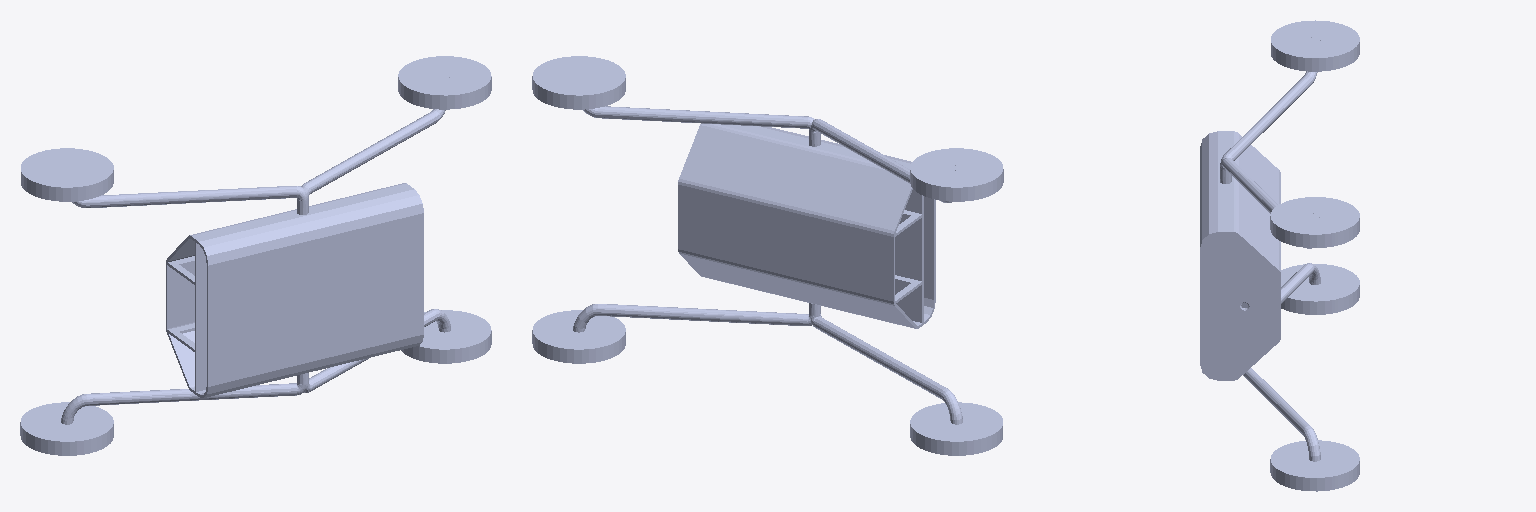
robot.urdf — test:
<?xml version="1.0" encoding="utf-8"?>
<!-- This URDF was automatically created by SolidWorks to URDF Exporter! Originally created by [author] ([email redacted]) 
     Commit Version: 1.6.0-1-g15f4949  Build Version: 1.6.7594.29634
     For more information, please see http://wiki.ros.org/sw_urdf_exporter -->
<robot
  name="test">
  <link
    name="base_link">
    <inertial>
      <origin
        xyz="0.00385110015791527 0.0280770448699607 -1.04225604390537E-05"
        rpy="0 0 0" />
      <mass
        value="0.174077539357314" />
      <inertia
        ixx="0.000416751884710947"
        ixy="1.77575099724344E-06"
        ixz="-6.98727932946407E-09"
        iyy="0.000938336848084884"
        iyz="-4.77852064841354E-08"
        izz="0.000680761128898231" />
    </inertial>
    <visual>
      <origin
        xyz="0 0 0"
        rpy="0 0 0" />
      <geometry>
        <mesh
          filename="package://ad2_robot/models/test/meshes/base_link.STL" />
      </geometry>
      <material
        name="">
        <color
          rgba="0.792156862745098 0.819607843137255 0.933333333333333 1" />
      </material>
    </visual>
    <collision>
      <origin
        xyz="0 0 0"
        rpy="0 0 0" />
      <geometry>
        <mesh
          filename="package://ad2_robot/models/test/meshes/base_link.STL" />
      </geometry>
    </collision>
  </link>
  <link
    name="FLW">
    <inertial>
      <origin
        xyz="0 -2.77555756156289E-17 0.005"
        rpy="0 0 0" />
      <mass
        value="0.0277716790577338" />
      <inertia
        ixx="6.59114516303548E-06"
        ixy="6.35274710440725E-22"
        ixz="-2.9328147540538E-22"
        iyy="6.59114516303548E-06"
        iyz="-1.35271814457724E-21"
        izz="1.27194290084421E-05" />
    </inertial>
    <visual>
      <origin
        xyz="0 0 0"
        rpy="0 0 0" />
      <geometry>
        <mesh
          filename="package://ad2_robot/models/test/meshes/FLW.STL" />
      </geometry>
      <material
        name="">
        <color
          rgba="0.792156862745098 0.819607843137255 0.933333333333333 1" />
      </material>
    </visual>
    <collision>
      <origin
        xyz="0 0 0"
        rpy="0 0 0" />
      <geometry>
        <mesh
          filename="package://ad2_robot/models/test/meshes/FLW.STL" />
      </geometry>
    </collision>
  </link>
  <joint
    name="Front Left Wheel"
    type="continuous">
    <origin
      xyz="0.14 0.0772144660940672 0.085"
      rpy="0 0 0.453067400416879" />
    <parent
      link="base_link" />
    <child
      link="FLW" />
    <axis
      xyz="0 0 1" />
  </joint>
  <link
    name="FRW">
    <inertial>
      <origin
        xyz="0 2.77555756156289E-17 -0.00500000000000002"
        rpy="0 0 0" />
      <mass
        value="0.0277716790577338" />
      <inertia
        ixx="6.59114516303548E-06"
        ixy="2.11758236813575E-22"
        ixz="1.56036239285577E-22"
        iyy="6.59114516303548E-06"
        iyz="-1.12343061991195E-21"
        izz="1.27194290084421E-05" />
    </inertial>
    <visual>
      <origin
        xyz="0 0 0"
        rpy="0 0 0" />
      <geometry>
        <mesh
          filename="package://ad2_robot/models/test/meshes/FRW.STL" />
      </geometry>
      <material
        name="">
        <color
          rgba="0.792156862745098 0.819607843137255 0.933333333333333 1" />
      </material>
    </visual>
    <collision>
      <origin
        xyz="0 0 0"
        rpy="0 0 0" />
      <geometry>
        <mesh
          filename="package://ad2_robot/models/test/meshes/FRW.STL" />
      </geometry>
    </collision>
  </link>
  <joint
    name="Front Right Wheel"
    type="continuous">
    <origin
      xyz="0.14 0.0772144660940672 -0.085"
      rpy="0 0 0.453067400416879" />
    <parent
      link="base_link" />
    <child
      link="FRW" />
    <axis
      xyz="0 0 1" />
  </joint>
  <link
    name="BLW">
    <inertial>
      <origin
        xyz="4.16333634234434E-17 0 0.00499999999999999"
        rpy="0 0 0" />
      <mass
        value="0.0277716790577338" />
      <inertia
        ixx="6.59114516303548E-06"
        ixy="-2.64697796016969E-23"
        ixz="1.06863007095103E-21"
        iyy="6.59114516303548E-06"
        iyz="1.55112771163914E-22"
        izz="1.27194290084421E-05" />
    </inertial>
    <visual>
      <origin
        xyz="0 0 0"
        rpy="0 0 0" />
      <geometry>
        <mesh
          filename="package://ad2_robot/models/test/meshes/BLW.STL" />
      </geometry>
      <material
        name="">
        <color
          rgba="0.792156862745098 0.819607843137255 0.933333333333333 1" />
      </material>
    </visual>
    <collision>
      <origin
        xyz="0 0 0"
        rpy="0 0 0" />
      <geometry>
        <mesh
          filename="package://ad2_robot/models/test/meshes/BLW.STL" />
      </geometry>
    </collision>
  </link>
  <joint
    name="Back Left Wheel"
    type="continuous">
    <origin
      xyz="-0.14 0.0772144660940672 0.085"
      rpy="0 0 -1.61100897623934" />
    <parent
      link="base_link" />
    <child
      link="BLW" />
    <axis
      xyz="0 0 1" />
  </joint>
  <link
    name="BRW">
    <inertial>
      <origin
        xyz="-4.16333634234434E-17 -2.77555756156289E-17 -0.005"
        rpy="0 0 0" />
      <mass
        value="0.0277716790577338" />
      <inertia
        ixx="6.59114516303548E-06"
        ixy="2.11758236813575E-22"
        ixz="1.56036239285577E-22"
        iyy="6.59114516303548E-06"
        iyz="-1.12343061991195E-21"
        izz="1.27194290084421E-05" />
    </inertial>
    <visual>
      <origin
        xyz="0 0 0"
        rpy="0 0 0" />
      <geometry>
        <mesh
          filename="package://ad2_robot/models/test/meshes/BRW.STL" />
      </geometry>
      <material
        name="">
        <color
          rgba="0.792156862745098 0.819607843137255 0.933333333333333 1" />
      </material>
    </visual>
    <collision>
      <origin
        xyz="0 0 0"
        rpy="0 0 0" />
      <geometry>
        <mesh
          filename="package://ad2_robot/models/test/meshes/BRW.STL" />
      </geometry>
    </collision>
  </link>
  <joint
    name="Back Right Wheel"
    type="continuous">
    <origin
      xyz="-0.14 0.0772144660940672 -0.085"
      rpy="0 0 0.453067400416879" />
    <parent
      link="base_link" />
    <child
      link="BRW" />
    <axis
      xyz="0 0 1" />
  </joint>
</robot>

--- Facts derived from the render (not from the file) ---
Views: 3 orthographic renders of the robot side by side, from view 1: azimuth 30°, elevation 25°; view 2: azimuth 150°, elevation 25°; view 3: azimuth 270°, elevation 25°.
Robot: test — 5 links, 4 joints (4 continuous); root link base_link; default pose: all joints at 0.
Visible links, largest first — view 1: base_link, FLW, BLW, BRW, FRW; view 2: base_link, BLW, FLW, BRW, FRW; view 3: base_link, FLW, BLW, FRW, BRW.
Link boxes in pixels (x1=…): base_link: x1=61, y1=73, x2=450, y2=424; FLW: x1=398, y1=56, x2=491, y2=109; BLW: x1=21, y1=148, x2=113, y2=201; BRW: x1=20, y1=402, x2=113, y2=455; FRW: x1=401, y1=310, x2=491, y2=363; base_link: x1=573, y1=73, x2=962, y2=424; BLW: x1=910, y1=148, x2=1003, y2=201; FLW: x1=532, y1=56, x2=625, y2=109; BRW: x1=910, y1=402, x2=1002, y2=455; FRW: x1=532, y1=310, x2=625, y2=363; base_link: x1=1200, y1=37, x2=1320, y2=461; FLW: x1=1270, y1=197, x2=1359, y2=247; BLW: x1=1271, y1=20, x2=1359, y2=71; FRW: x1=1270, y1=440, x2=1359, y2=491; BRW: x1=1281, y1=264, x2=1359, y2=314.
Bounding box of the posed robot: 0.34 × 0.1072 × 0.19 m (x, y, z).
5 mesh visuals loaded from 5 distinct referenced files (5 binary STL).